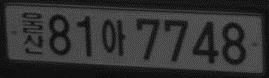1: (75, 14, 93, 58)
4: (190, 19, 220, 65)
7: (134, 17, 161, 61), (163, 18, 189, 63)
8: (220, 20, 246, 65), (47, 13, 72, 57)
아: (100, 17, 126, 58)
울산_V: (20, 10, 45, 56)
